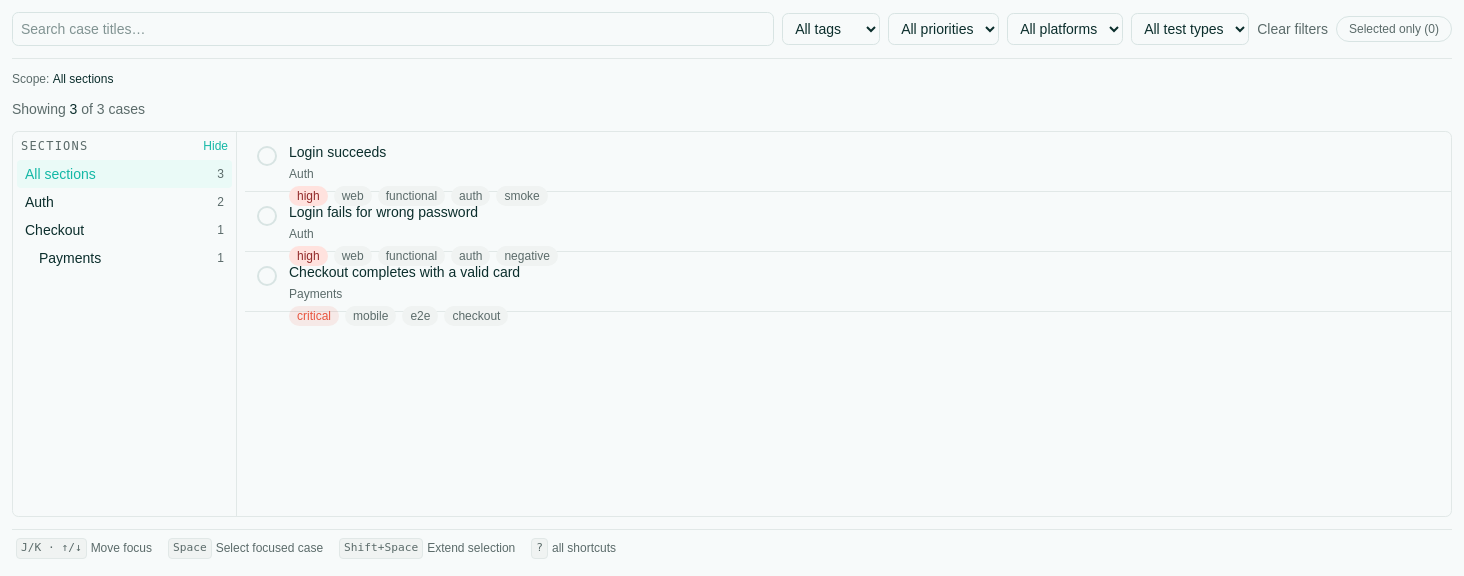
Scenario: CasePicker › shows an explicit empty state when no case matches the filters
The image size is (1464, 576).
Select "Web" in the dropdown named "platform". click: point(1065, 29)
box: [1007, 13, 1123, 45]
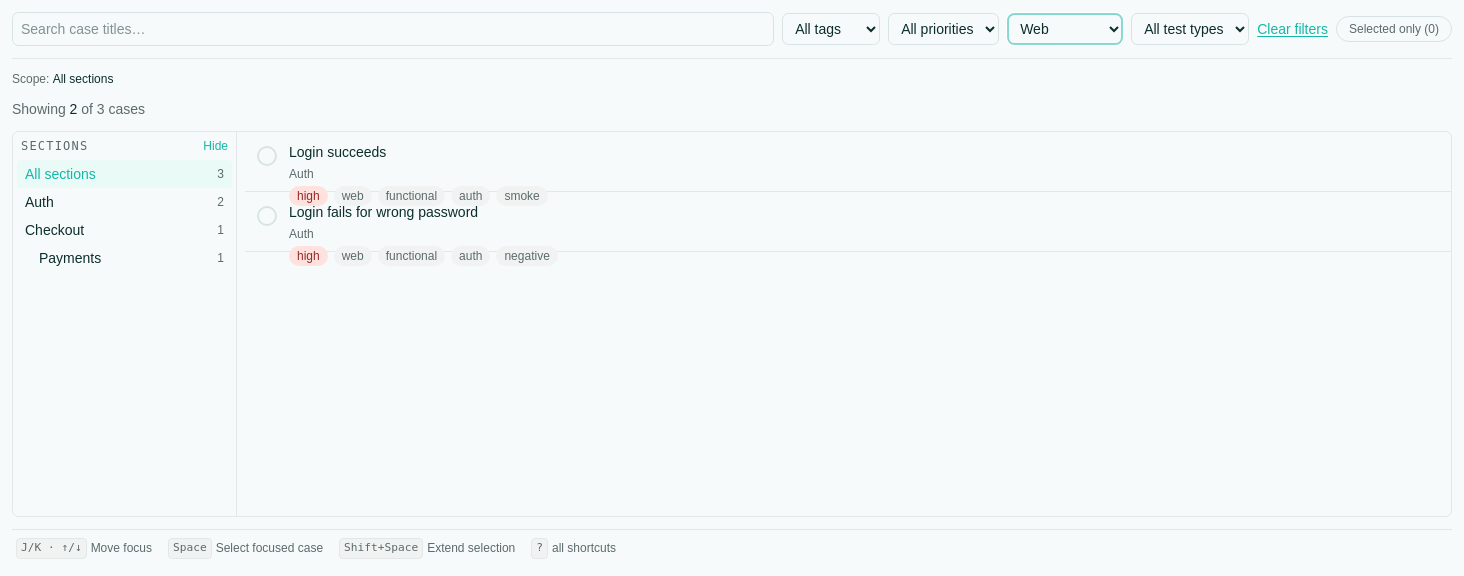
Select "E2e" in the dropdown named "test type". click: point(1190, 29)
box: [1131, 13, 1249, 45]
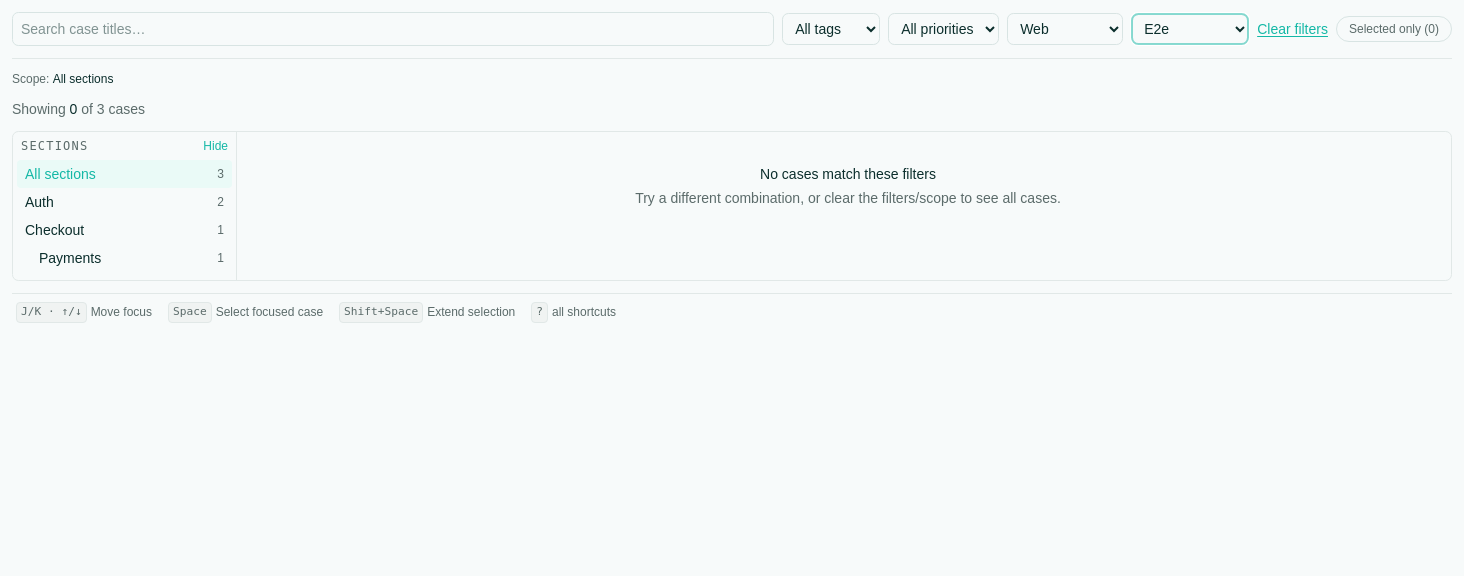
Check: the text "No cases match these filters" is shown, box [760, 166, 936, 182]
